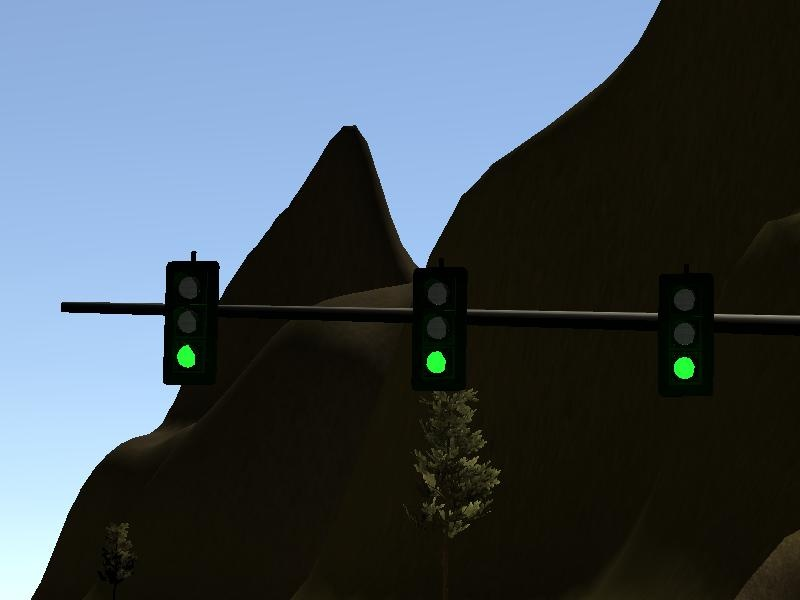green: (162, 248, 224, 397), (653, 273, 719, 395), (406, 259, 463, 397)
